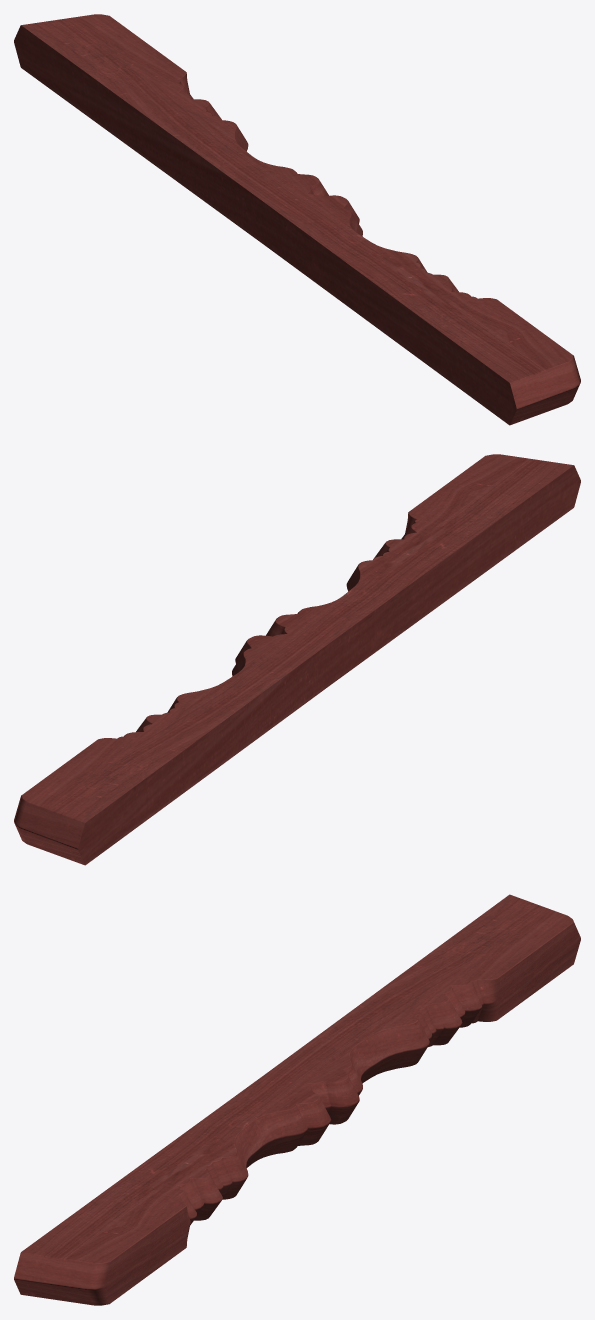
Rendered from SM_SJM_PillarD_01.fbx.
3 renders of one model, top to bottom at view 1: azimuth 30°, elevation 25°; view 2: azimuth 150°, elevation 25°; view 3: azimuth 330°, elevation 25°, orthographic.
Visible parts, largest first — view 1: SM_SJM_PillarD_01; view 2: SM_SJM_PillarD_01; view 3: SM_SJM_PillarD_01.
Boxes of the visible parts, left/top/right/bottom form: SM_SJM_PillarD_01: left=14, top=14, right=580, bottom=425; SM_SJM_PillarD_01: left=14, top=454, right=580, bottom=865; SM_SJM_PillarD_01: left=14, top=894, right=580, bottom=1305.
Size of the model in its own units: 20.39 by 230 by 10.75.
Materials: 1 (1 with a texture image).
